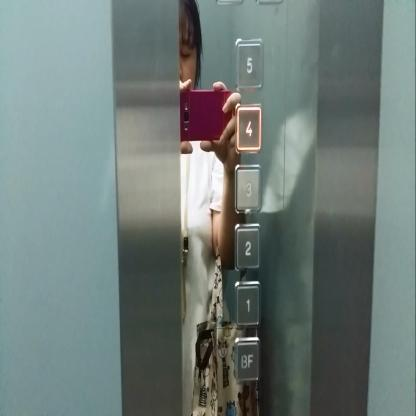1: (234, 279, 261, 329)
2: (233, 223, 260, 272)
3: (234, 163, 261, 215)
4: (234, 101, 262, 155)
5: (235, 37, 263, 90)
BF: (234, 336, 261, 382)
